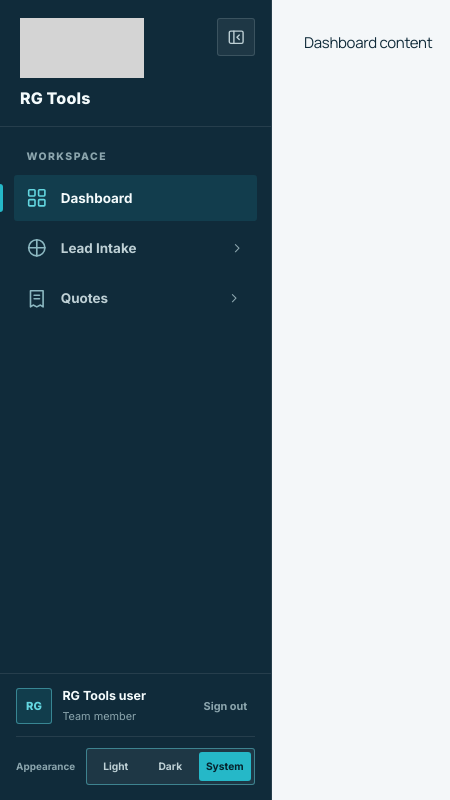
Scenario: DashboardShell › retains a Quotes submenu control when the desktop sidebar is collapsed
This screenshot has width=450, height=800.
Click the button named "Collapse navigation" at coordinates (236, 37), box [217,18,255,56]
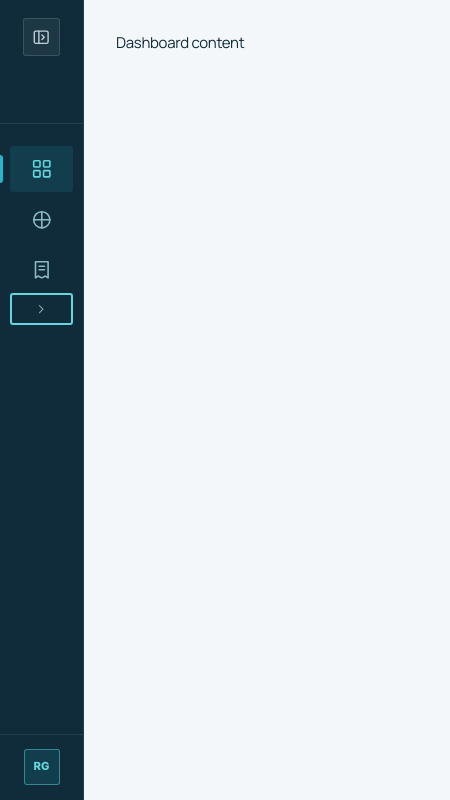
Press Enter
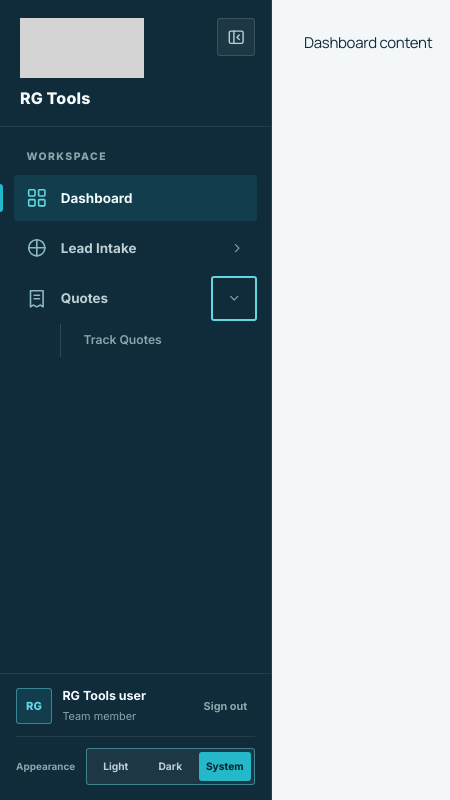
expect the button named "Collapse Quotes submenu" is expanded: met, box [211,276,257,321]
